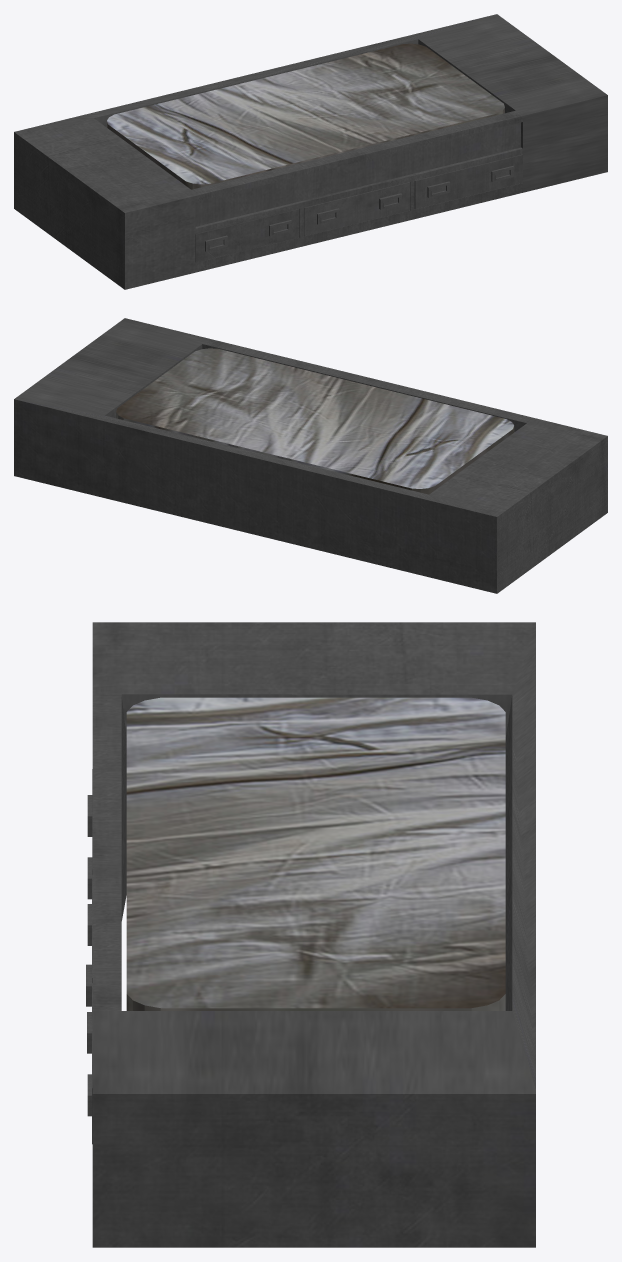
File: stateroomBed.fbx
The picture shows the model from 3 angles, top to bottom: view 1: azimuth 30°, elevation 25°; view 2: azimuth 150°, elevation 25°; view 3: azimuth 270°, elevation 25°; orthographic projection. The views are drawn at different scales.
Visible parts, largest first — view 1: bed; view 2: bed; view 3: bed.
Part boxes in pixels (left/top/right/bottom): bed: left=14, top=14, right=607, bottom=289; bed: left=14, top=318, right=607, bottom=593; bed: left=86, top=622, right=535, bottom=1247.
Bounding box in the file's own units: 2361 × 360 × 953.
